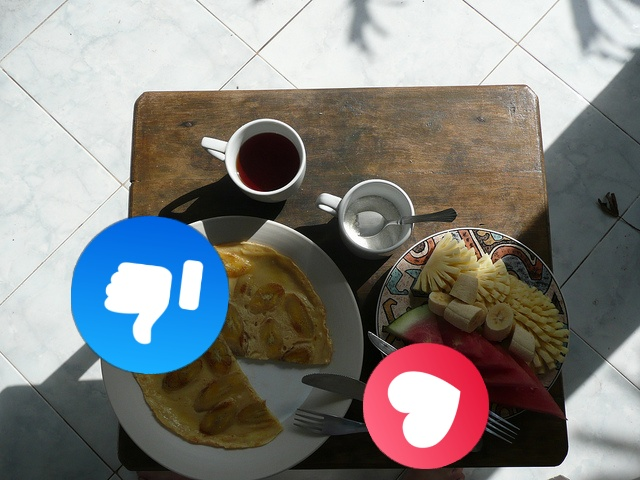like: (71, 216, 229, 374)
love: (363, 343, 489, 469)
